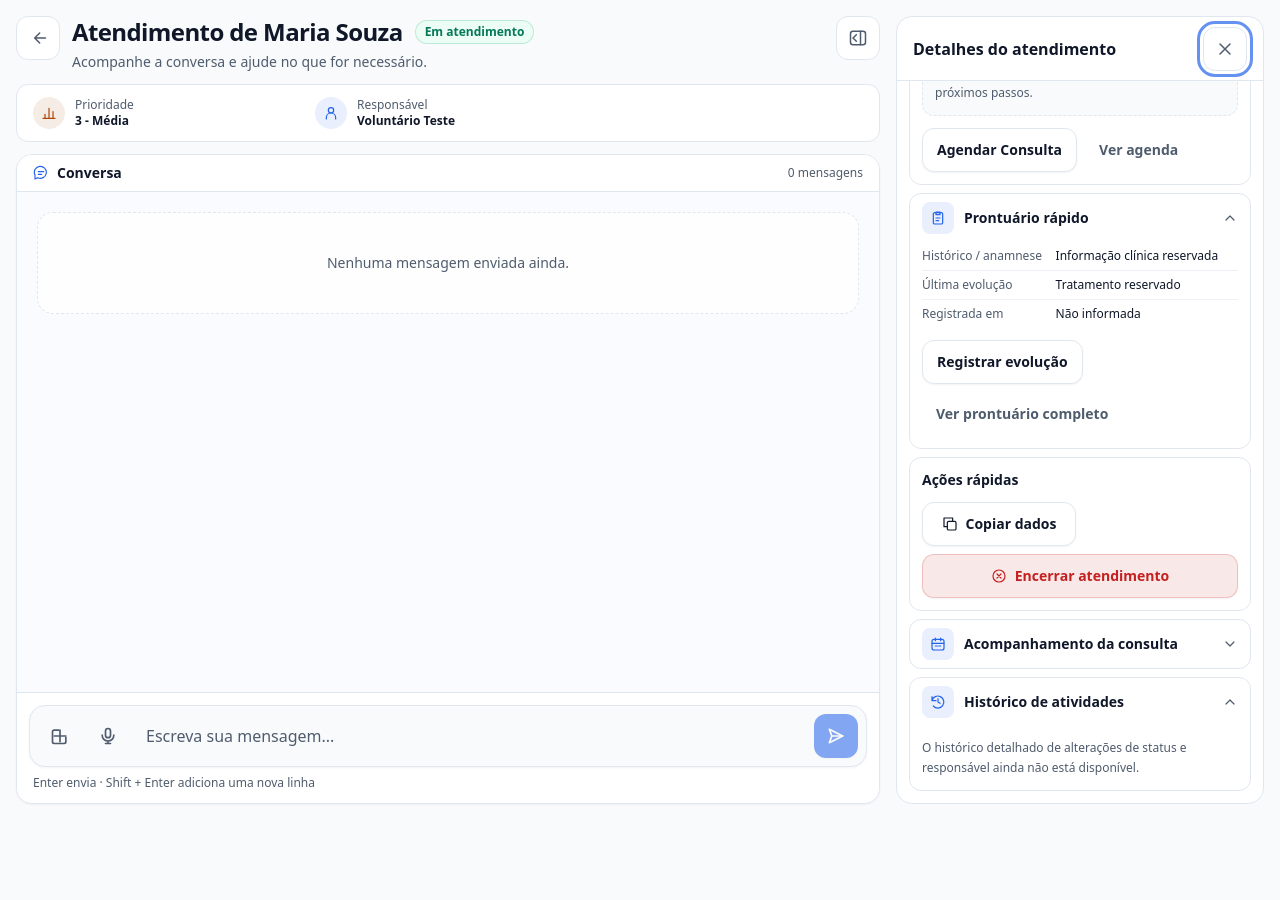
Test case: DetalheAtendimento - Deduplicação de Mensagens › copia os dados do atendimento sem incluir conteúdo clínico
(page scrolled)
Click the button "Copiar dados" at (999, 524), box [922,502,1076,546]
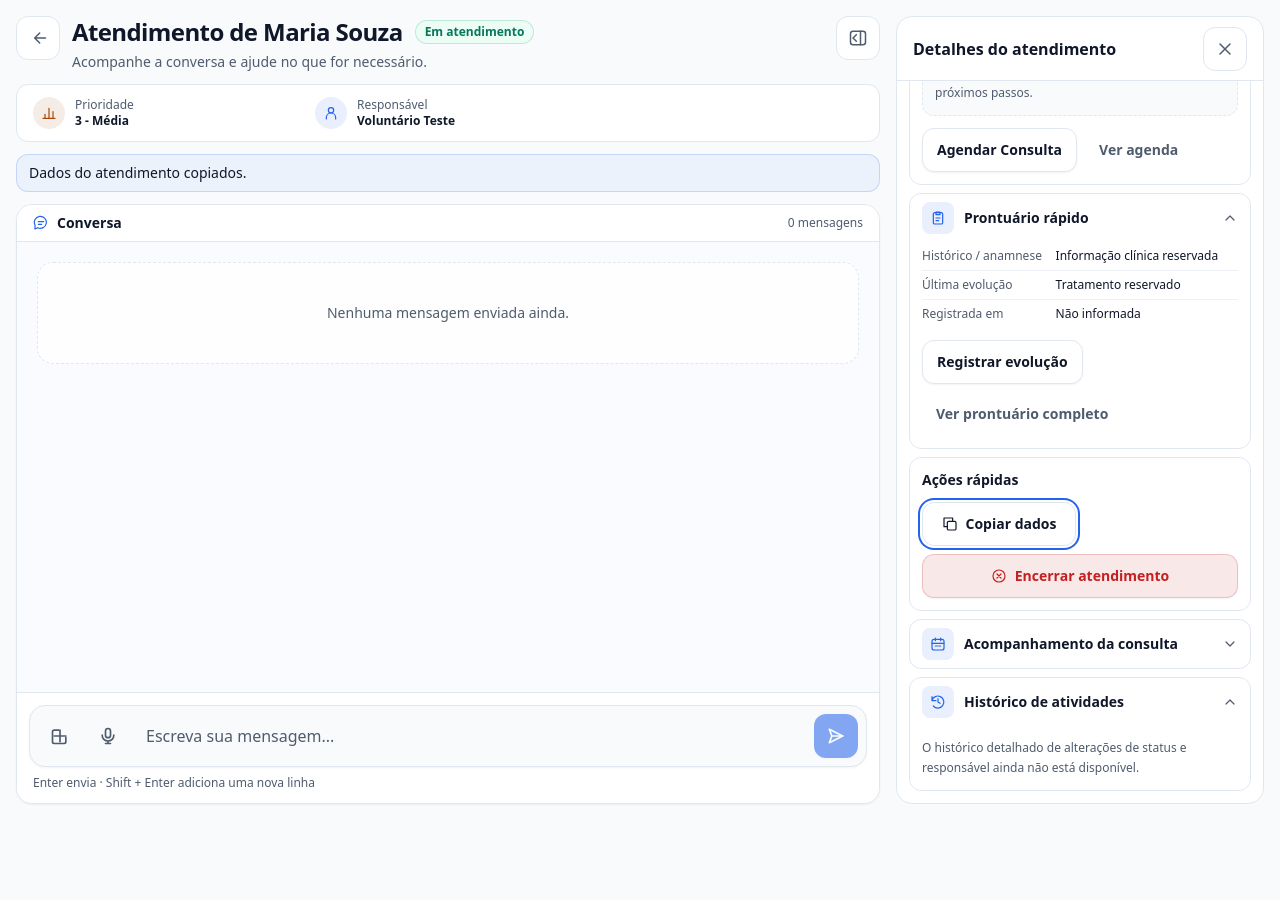
Expected: the text "Dados do atendimento copiados." is shown, [16,154,880,192]
